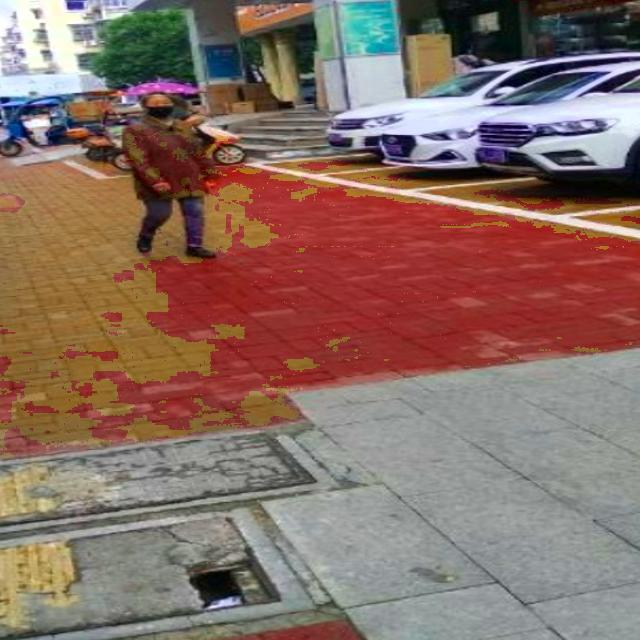broke: (0, 505, 324, 640)
good: (0, 425, 337, 541)
